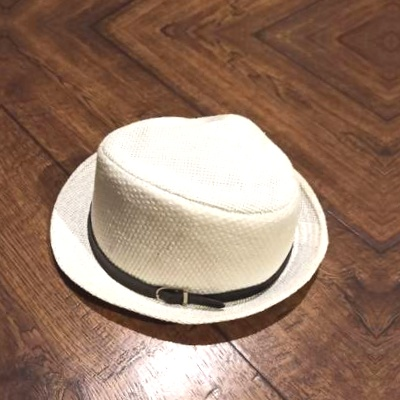Hat: (31, 87, 380, 342), (385, 105, 400, 360)
